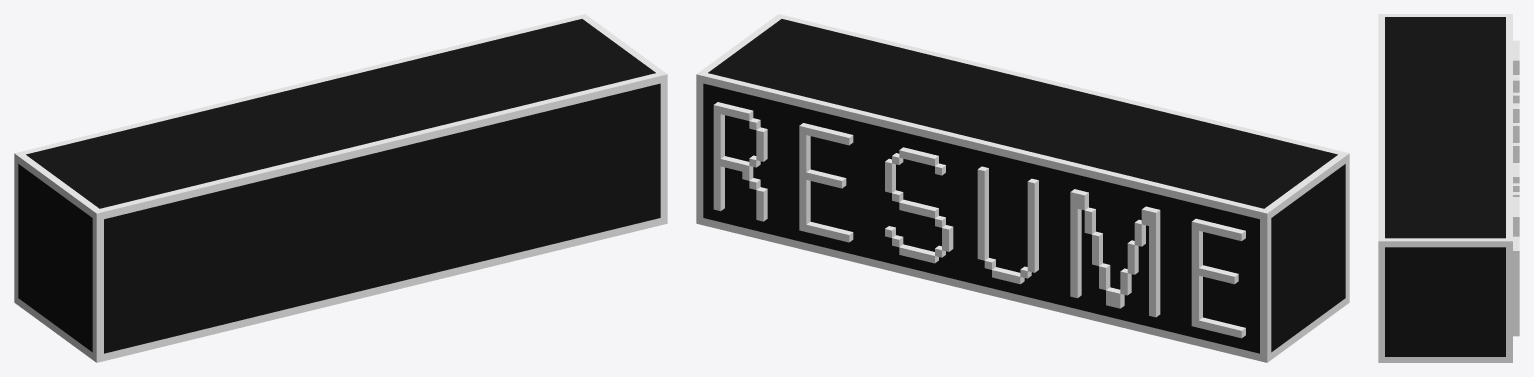
Rendered from resumeButton.fbx.
3 views of the same model, side by side, from view 1: azimuth 30°, elevation 25°; view 2: azimuth 150°, elevation 25°; view 3: azimuth 270°, elevation 25° (orthographic). The views are drawn at different scales.
Parts seen in each view (by area): view 1: resumeButton; view 2: resumeButton; view 3: resumeButton.
Boxes of the visible parts, <box> form: resumeButton: <box>14,14,667,362</box>; resumeButton: <box>696,14,1349,362</box>; resumeButton: <box>1378,14,1519,362</box>.
Bounding box in the file's own units: 400 × 100 × 105.
